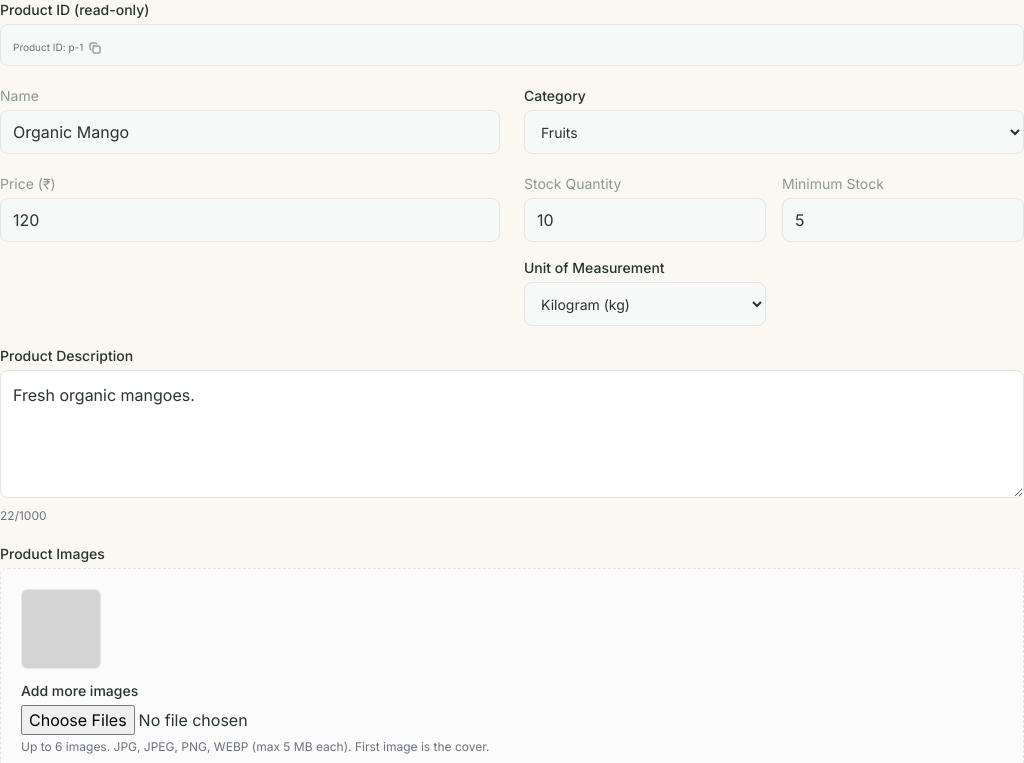
Test: ProductForm low stock threshold › rejects a negative threshold and does not submit
Select "Fruits" in the dropdown below "Category" at (774, 132), box [524,110,1023,154]
Replace the text in the number field below "Minimum Stock" with "-1" at (903, 220), box [782,198,1023,242]
(page scrolled)
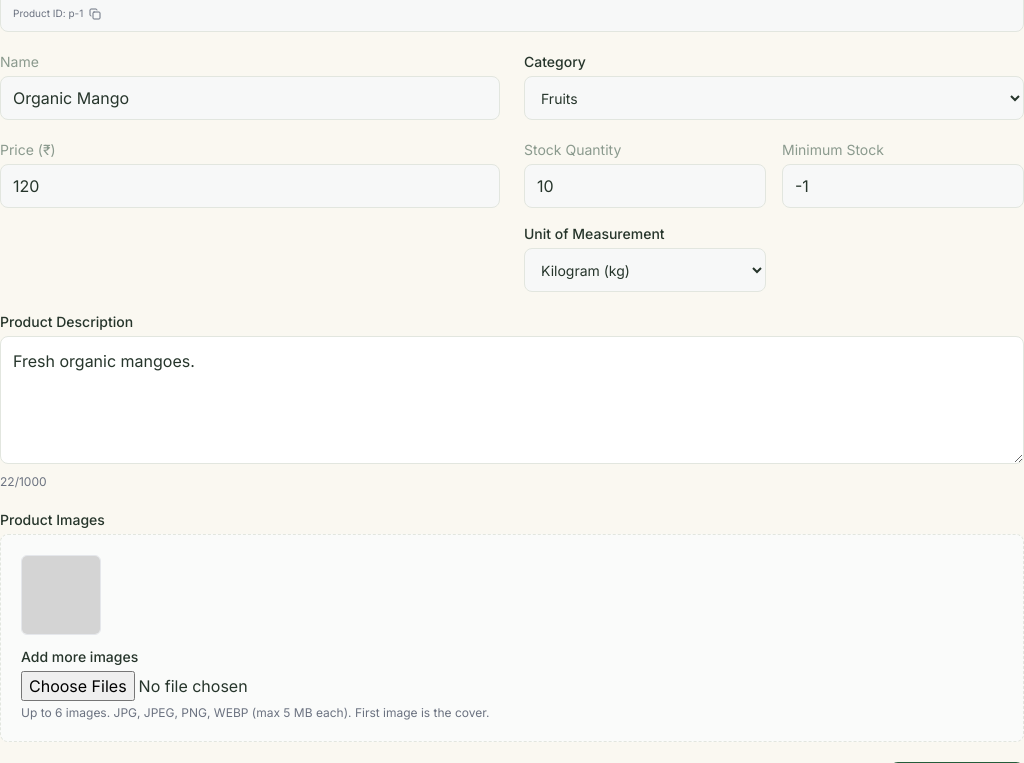
Submit the form
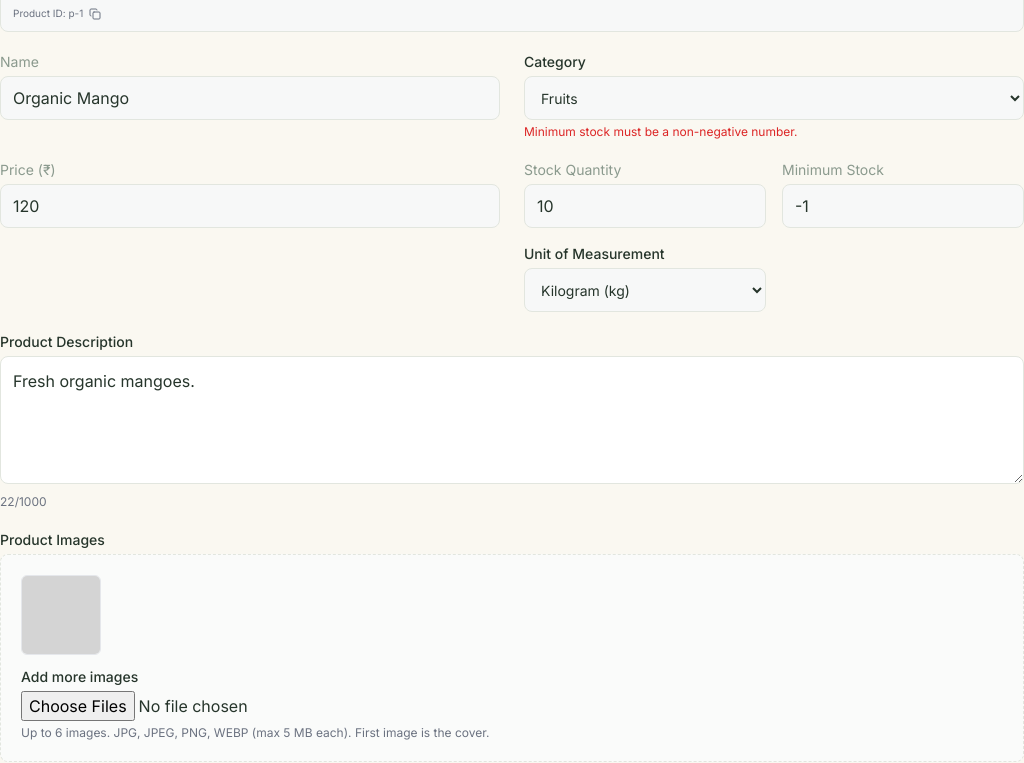
Expected: the text "Minimum stock must be a non-negative number." is shown, [524,124,798,139]
